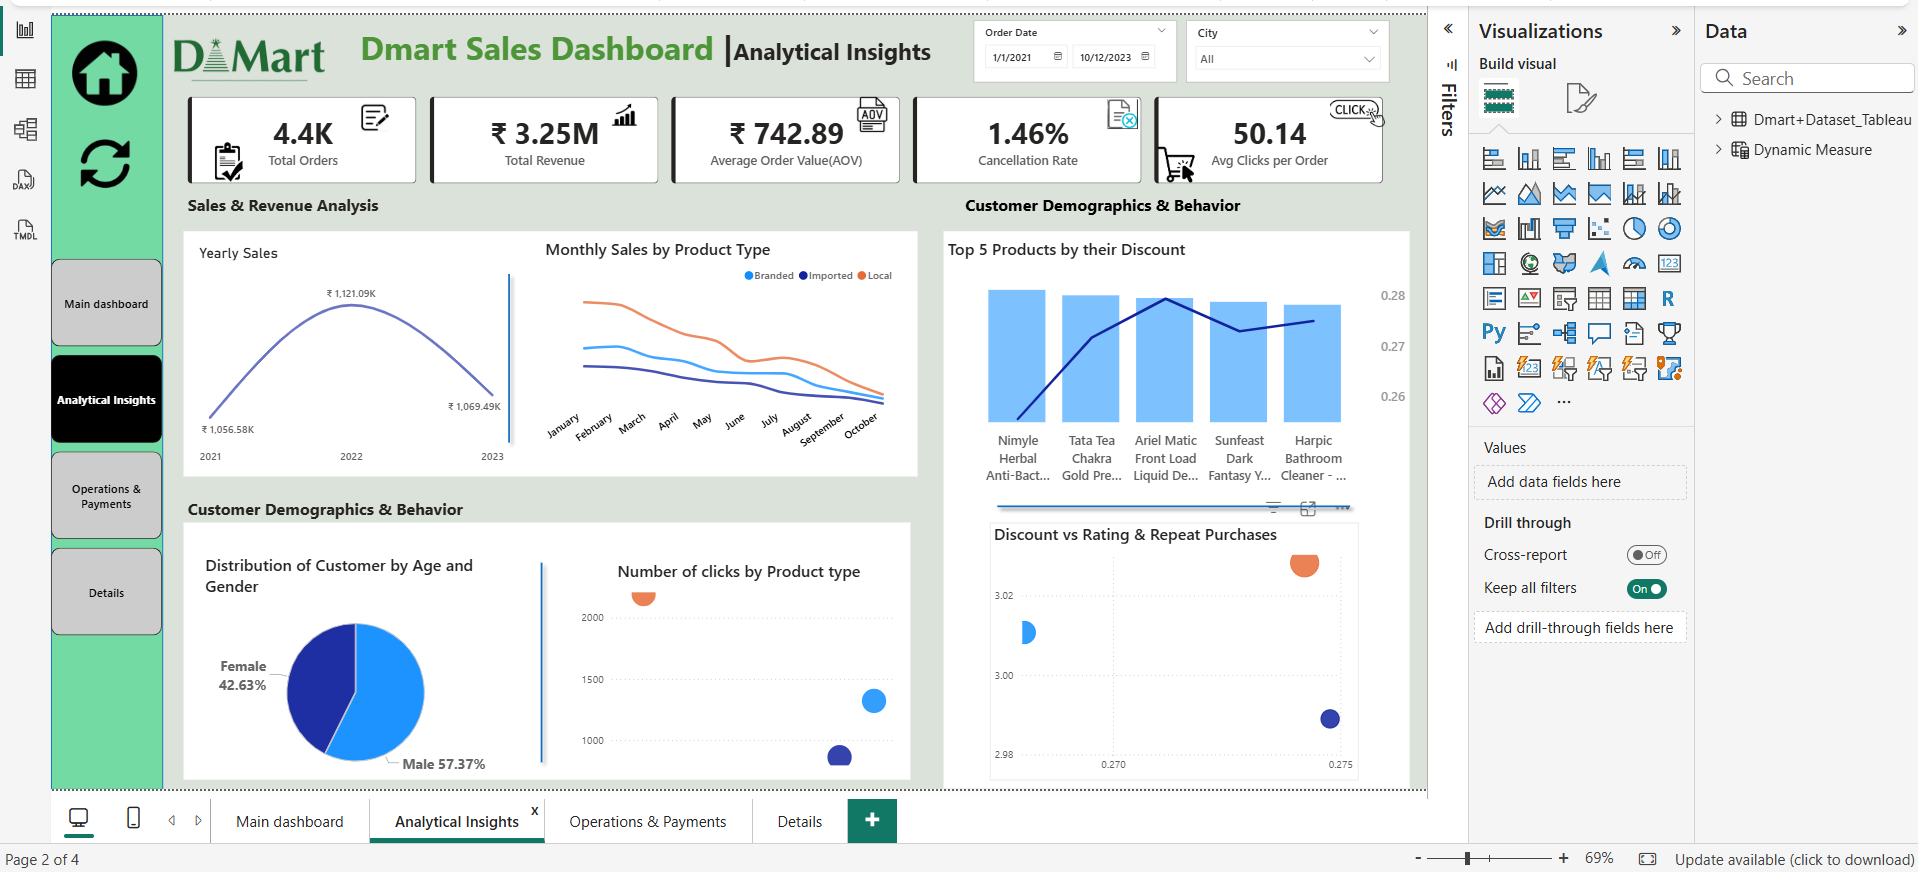

What the dashboard file says about the page in this screenshot:
{"tool":"powerbi","page":{"name":"Analytical Insights ","canvas":[1600,900],"ordinal":1},"visuals":[{"type":"textbox","box":[354.8,7,704.3,66.1],"z":0},{"type":"cardVisual","fields":{"Data":["Dmart+Dataset_Tableau.Total Orders","Dmart+Dataset_Tableau.Total Revenue","Dmart+Dataset_Tableau.Average Order Value(AOV)","Dmart+Dataset_Tableau.Cancellation Rate","Dmart+Dataset_Tableau.Avg Clicks per Order"]},"box":[154.8,90.4,1403.5,111.3],"z":1000},{"type":"image","box":[1223.8,81.4,45.1,68.3],"z":2000},{"type":"image","box":[921.5,84.3,66.9,61],"z":3000},{"type":"image","box":[356.1,94.5,42.2,49.4],"z":4000},{"type":"image","box":[180.9,142.6,52.2,57.4],"z":5000},{"type":"image","box":[633.7,81.4,62.5,64],"z":6000},{"type":"image","box":[1280.5,143.9,58.1,58.1],"z":7000},{"type":"image","box":[1482.6,78.5,75.6,68.3],"z":8000},{"type":"image","box":[137.4,13.9,189.6,69.6],"z":9000},{"type":"slicer","fields":{"Values":["Dmart+Dataset_Tableau.Order Date"]},"box":[1072.9,5.7,237.1,72.9],"z":10000},{"type":"slicer","fields":{"Values":["Dmart+Dataset_Tableau.City"]},"box":[1319.8,5.8,236.9,72.7],"z":11000},{"type":"textbox","box":[154.8,203.5,281.7,36.5],"z":12000},{"type":"shape","box":[154.8,252.2,853.9,285.2],"z":13000},{"type":"lineChart","title":"Yearly Sales","fields":{"Category":["Dmart+Dataset_Tableau.Year"],"Y":["Dmart+Dataset_Tableau.Total Revenue"]},"box":[167,266.1,365.2,266.1],"z":14000},{"type":"lineChart","title":"Monthly Sales by Product Type","fields":{"Y":["Dmart+Dataset_Tableau.Total Revenue"],"Category":["Dmart+Dataset_Tableau.Order Date.Variation.Date Hierarchy.Month"],"Series":["Dmart+Dataset_Tableau.Category"]},"box":[570,258,418,264],"z":15000},{"type":"shape","box":[496,292,74,214],"z":16000},{"type":"shape","box":[154.8,589.6,845.2,299.1],"z":17000},{"type":"pieChart","title":"Distribution of Customer by Age and Gender","fields":{"Y":["Sum(Dmart+Dataset_Tableau.Customer Age)"],"Category":["Dmart+Dataset_Tableau.Gender"]},"box":[173.9,626.1,360,273],"z":18000},{"type":"scatterChart","title":"Number of clicks by Product type","fields":{"X":["Avg(Dmart+Dataset_Tableau.No of Clicks)"],"Y":["Dmart+Dataset_Tableau.Total Orders"],"Series":["Dmart+Dataset_Tableau.Category"],"Size":["Dmart+Dataset_Tableau.Avg Clicks per Order"]},"box":[612,634,376,244],"z":19000},{"type":"shape","box":[534,628,74,250],"z":20000},{"type":"textbox","box":[154.8,556.5,339.1,38.3],"z":21000},{"type":"shape","title":"Number of Clicks BY Product Type","box":[1038,252,542,648],"z":22000},{"type":"lineStackedColumnComboChart","title":"Top 5 Products by their Discount ","fields":{"Category":["Dmart+Dataset_Tableau.Product Name"],"Y":["Dmart+Dataset_Tableau.Total Revenue"],"Y2":["Dmart+Dataset_Tableau.Discounts %"]},"box":[1038,258,542,294],"z":23000},{"type":"textbox","box":[1058,204,500,48],"z":24000},{"type":"scatterChart","title":"Discount vs Rating & Repeat Purchases","fields":{"Y":["Avg(Dmart+Dataset_Tableau.Rating)"],"Size":["Dmart+Dataset_Tableau.Total Orders"],"Series":["Dmart+Dataset_Tableau.Category"],"X":["Dmart+Dataset_Tableau.Discounts %"]},"box":[1092,590,428,300],"z":25000},{"type":"shape","box":[1092,552,428,38],"z":26000},{"type":"shape","box":[0,0,130.4,900.9],"z":27000},{"type":"pageNavigator","box":[0,283.4,129.4,440.4],"z":28000},{"type":"image","box":[10,10,106.1,113],"z":29000},{"type":"image","box":[19.1,120,92.2,102.6],"z":30000}]}

Visuals, with their boxes on the page's 1600x900 design canvas (x1, y1, x2, y2). These are canvas units, not pixel positions in the 1918x872 screenshot, which may show the page scaled, cropped or inside an application window:
textbox: bbox(355, 7, 1059, 73)
cardVisual - Dmart+Dataset_Tableau.Total Orders x Dmart+Dataset_Tableau.Total Revenue: bbox(155, 90, 1558, 202)
image: bbox(1224, 81, 1269, 150)
image: bbox(922, 84, 988, 145)
image: bbox(356, 94, 398, 144)
image: bbox(181, 143, 233, 200)
image: bbox(634, 81, 696, 145)
image: bbox(1280, 144, 1339, 202)
image: bbox(1483, 78, 1558, 147)
image: bbox(137, 14, 327, 84)
slicer - Dmart+Dataset_Tableau.Order Date: bbox(1073, 6, 1310, 79)
slicer - Dmart+Dataset_Tableau.City: bbox(1320, 6, 1557, 78)
textbox: bbox(155, 204, 436, 240)
shape: bbox(155, 252, 1009, 537)
"Yearly Sales" lineChart: bbox(167, 266, 532, 532)
"Monthly Sales by Product Type" lineChart: bbox(570, 258, 988, 522)
shape: bbox(496, 292, 570, 506)
shape: bbox(155, 590, 1000, 889)
"Distribution of Customer by Age and Gender" pieChart: bbox(174, 626, 534, 899)
"Number of clicks by Product type" scatterChart: bbox(612, 634, 988, 878)
shape: bbox(534, 628, 608, 878)
textbox: bbox(155, 556, 494, 595)
"Number of Clicks BY Product Type" shape: bbox(1038, 252, 1580, 900)
"Top 5 Products by their Discount " lineStackedColumnComboChart: bbox(1038, 258, 1580, 552)
textbox: bbox(1058, 204, 1558, 252)
"Discount vs Rating & Repeat Purchases" scatterChart: bbox(1092, 590, 1520, 890)
shape: bbox(1092, 552, 1520, 590)
shape: bbox(0, 0, 130, 901)
pageNavigator: bbox(0, 283, 129, 724)
image: bbox(10, 10, 116, 123)
image: bbox(19, 120, 111, 223)
